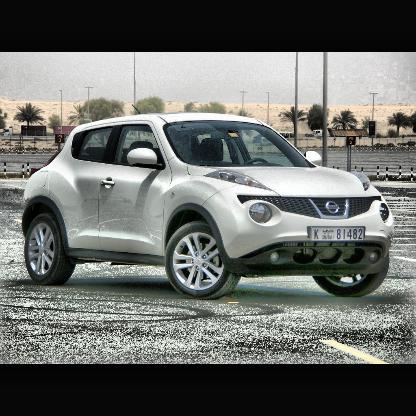Nissan Juke Hatchback 2012: (23, 104, 396, 305)
